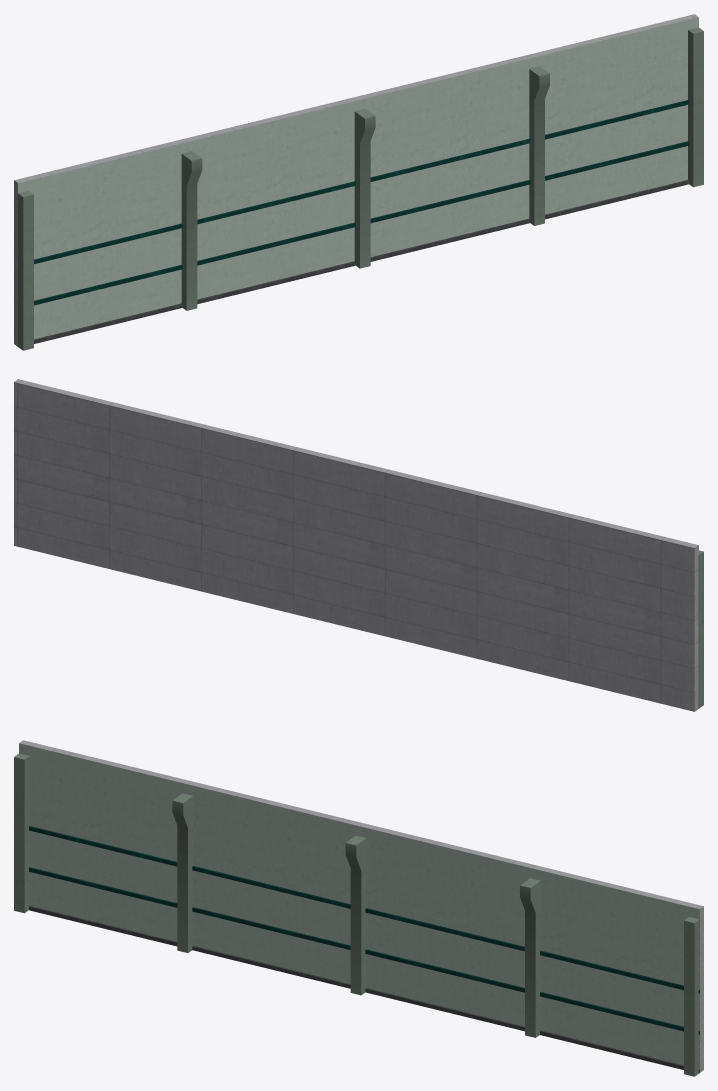
The model's file is WareMedium_Walls.glb.
The picture shows the model from 3 angles, top to bottom: view 1: azimuth 30°, elevation 25°; view 2: azimuth 150°, elevation 25°; view 3: azimuth 330°, elevation 25°; orthographic projection.
Visible parts, largest first — view 1: WareBig_Walls, WareBig_Column, WareBig_W; view 2: WareBig_Walls, WareBig_Column; view 3: WareBig_Walls, WareBig_Column, WareBig_W.
Part boxes in pixels (x1,y1,x2,y2): WareBig_Walls: [14, 14, 698, 346]; WareBig_Column: [18, 27, 703, 350]; WareBig_W: [34, 100, 688, 305]; WareBig_Walls: [14, 379, 698, 711]; WareBig_Column: [698, 550, 703, 708]; WareBig_Walls: [19, 740, 703, 1073]; WareBig_Column: [14, 753, 699, 1076]; WareBig_W: [29, 826, 699, 1034].
Size of the model in its own units: 38.08 by 8.75 by 1.38.
Materials: 5 (5 with a texture image).
